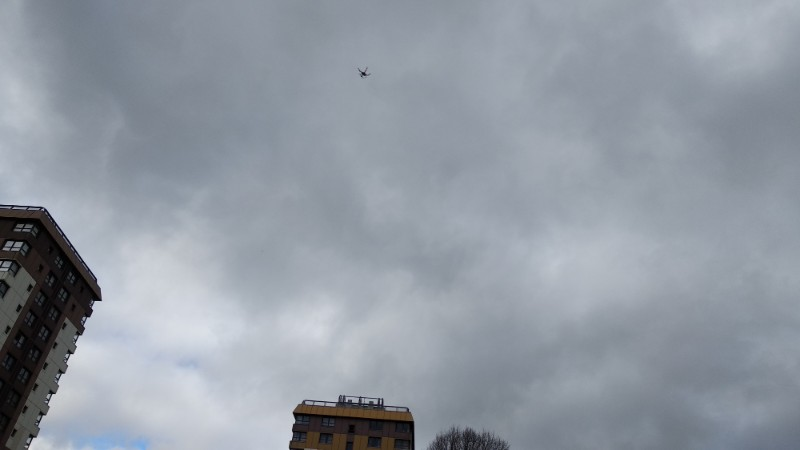drone: (358, 68, 372, 79)
